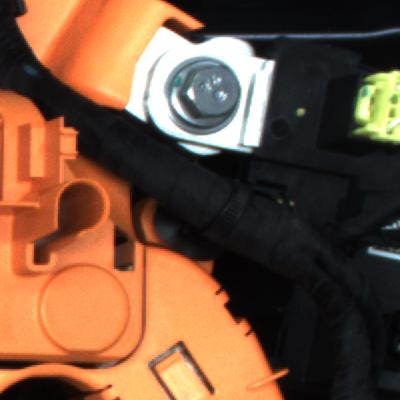nut_b: (160, 53, 262, 143)
